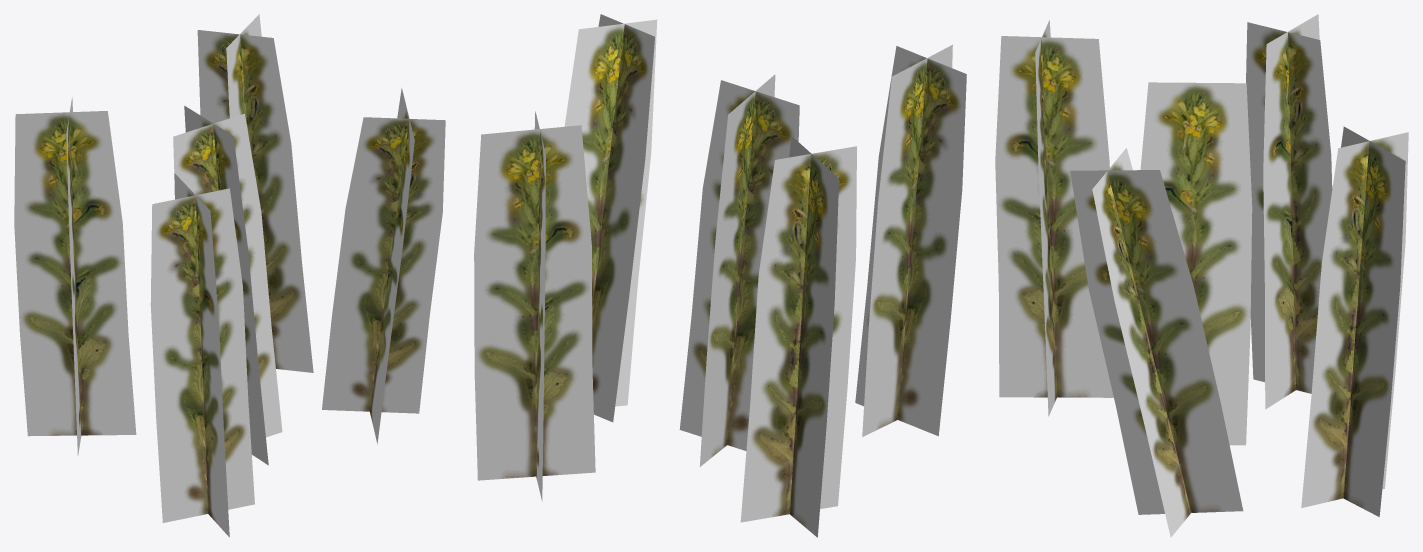
File: Parentucellia_Geo.fbx
3 views of the same model, side by side, from view 1: azimuth 30°, elevation 25°; view 2: azimuth 150°, elevation 25°; view 3: azimuth 270°, elevation 25° (orthographic). The views are drawn at different scales.
Parts seen in each view (by area): view 1: polySurface20, polySurface21, polySurface19, polySurface22, polySurface18; view 2: polySurface22, polySurface20, polySurface21, polySurface18, polySurface19; view 3: polySurface19, polySurface21, polySurface22, polySurface20, polySurface18.
Part boxes in pixels (bbox=[...]): polySurface20: bbox=[14, 97, 136, 455]; polySurface21: bbox=[150, 173, 254, 537]; polySurface19: bbox=[322, 88, 445, 444]; polySurface22: bbox=[197, 14, 313, 372]; polySurface18: bbox=[173, 105, 282, 465]; polySurface22: bbox=[474, 111, 595, 501]; polySurface20: bbox=[740, 136, 856, 537]; polySurface21: bbox=[855, 44, 966, 436]; polySurface18: bbox=[679, 74, 799, 466]; polySurface19: bbox=[564, 14, 657, 422]; polySurface19: bbox=[1070, 148, 1243, 537]; polySurface21: bbox=[995, 20, 1113, 416]; polySurface22: bbox=[1301, 126, 1408, 516]; polySurface20: bbox=[1246, 14, 1332, 409]; polySurface18: bbox=[1140, 82, 1252, 445].
Size of the model in its own units: 27.66 by 27.01 by 27.9.
